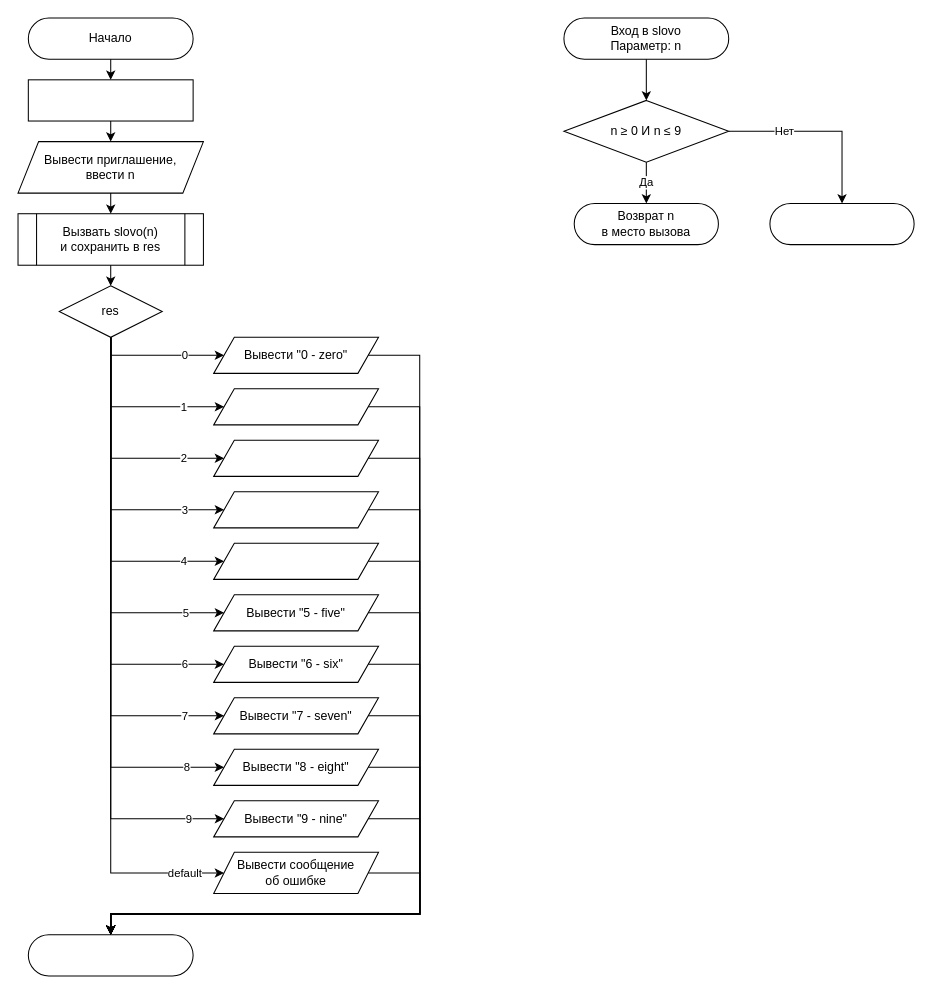
The diagram is 932 pixels wide and 994 high, and some of its shapes have lost their labels. Each missing label, with the box of its shape:
Возврат -1 в место вызова: (769, 202, 914, 245)
Вывести "1 - one": (213, 388, 379, 425)
Вывести "2 - two": (213, 439, 379, 476)
Вывести "3 - three": (213, 491, 379, 528)
Вывести "4 - four": (213, 542, 379, 579)
Конец Код завершения: 0: (27, 934, 193, 976)
Установить локализацию: (27, 79, 193, 121)
